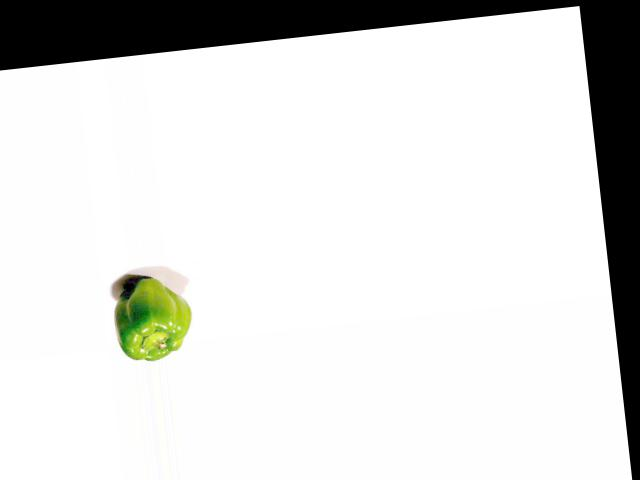bell_pepper: (108, 268, 199, 364)
